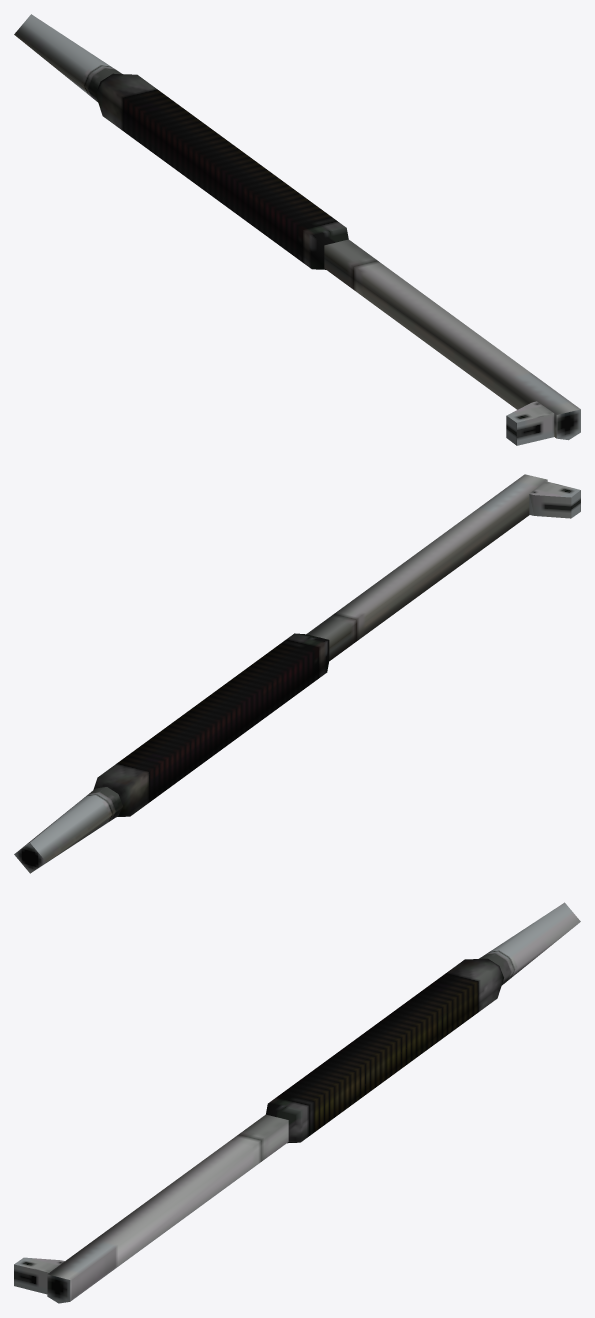
The model's file is eqp_comp_weapon_barrel_s01_l1.fbx.
3 views of the same model, one above another, from view 1: azimuth 30°, elevation 25°; view 2: azimuth 150°, elevation 25°; view 3: azimuth 330°, elevation 25° (orthographic). The views are drawn at different scales.
Visible parts, largest first — view 1: mesh_node; view 2: mesh_node; view 3: mesh_node.
Part boxes in pixels (left/top/right/bottom): mesh_node: left=14, top=14, right=580, bottom=445; mesh_node: left=14, top=474, right=580, bottom=873; mesh_node: left=14, top=902, right=580, bottom=1303.
Size of the model in its own units: 0.0422 by 0.0198 by 0.5847.
1 material, 1 textured.
